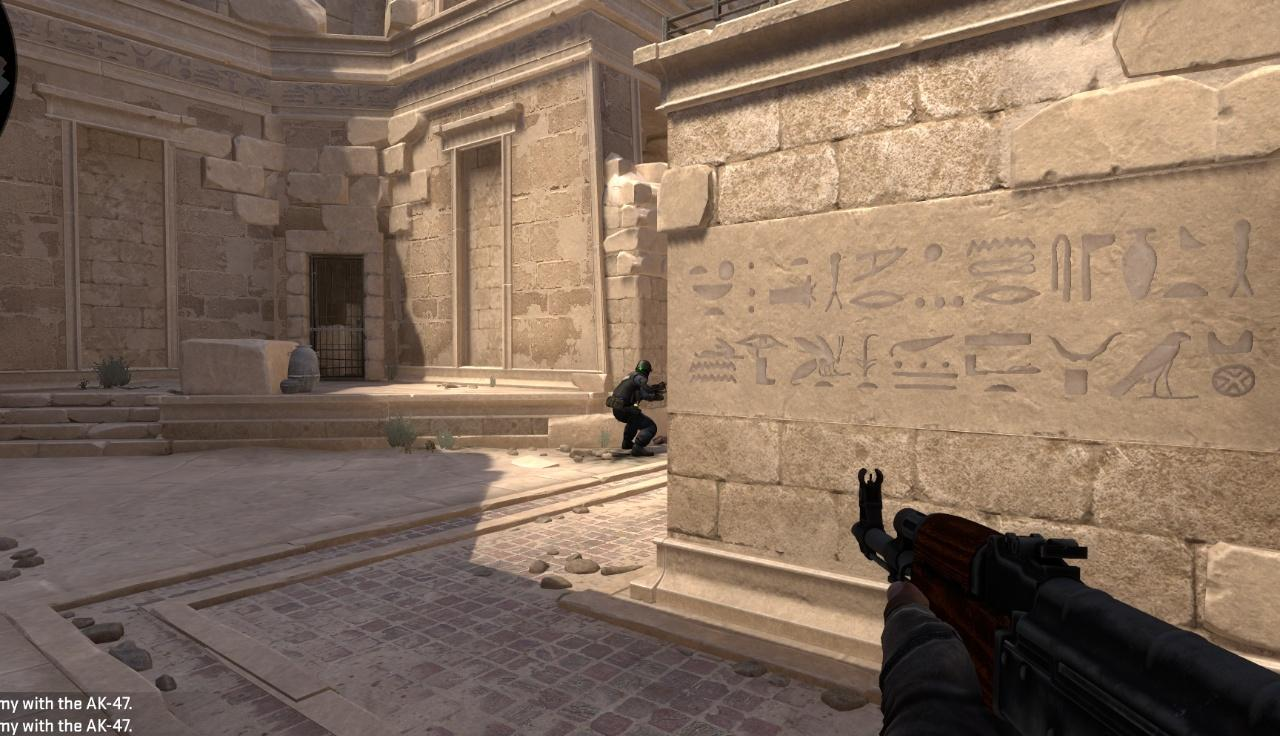ct: (612, 359, 656, 455)
cthead: (636, 360, 652, 378)
rifle: (852, 467, 1280, 736)
